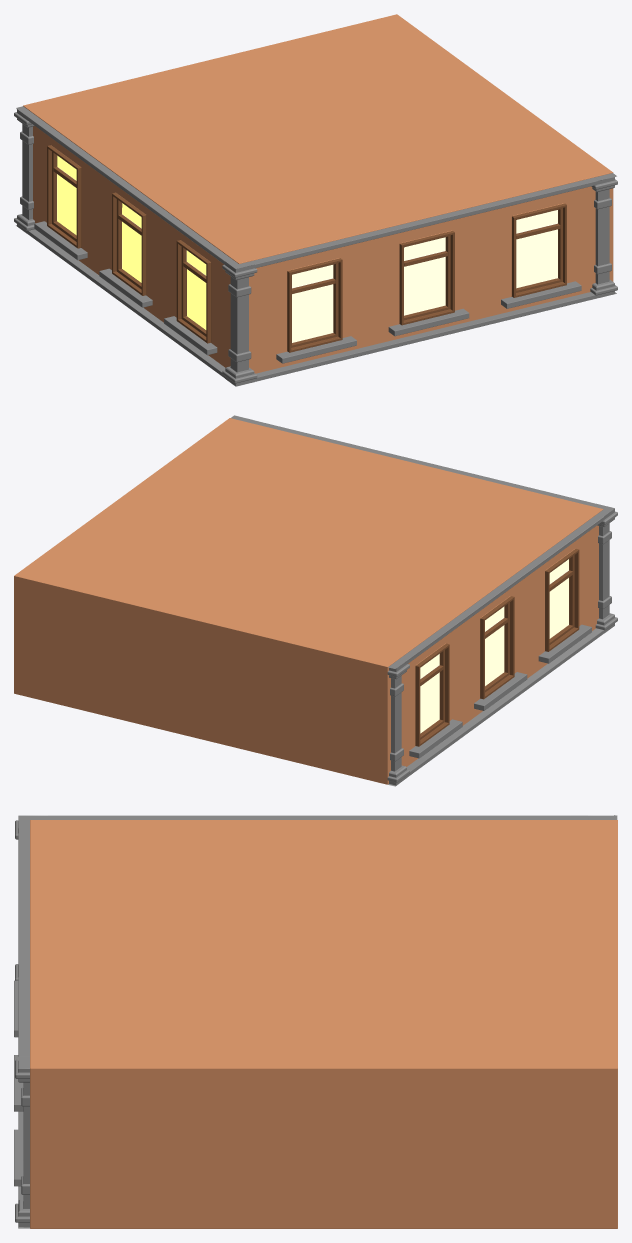
The model's file is Corner building middle.fbx.
The picture shows the model from 3 angles, top to bottom: view 1: azimuth 30°, elevation 25°; view 2: azimuth 150°, elevation 25°; view 3: azimuth 270°, elevation 25°; orthographic projection. The views are drawn at different scales.
Visible parts, largest first — view 1: CORNER BUILDING MID; view 2: CORNER BUILDING MID; view 3: CORNER BUILDING MID.
Part boxes in pixels (<box>): CORNER BUILDING MID: <box>14,14,617,386</box>; CORNER BUILDING MID: <box>14,415,617,786</box>; CORNER BUILDING MID: <box>14,815,617,1228</box>.
Size of the model in its own units: 1027 by 302 by 1027.
